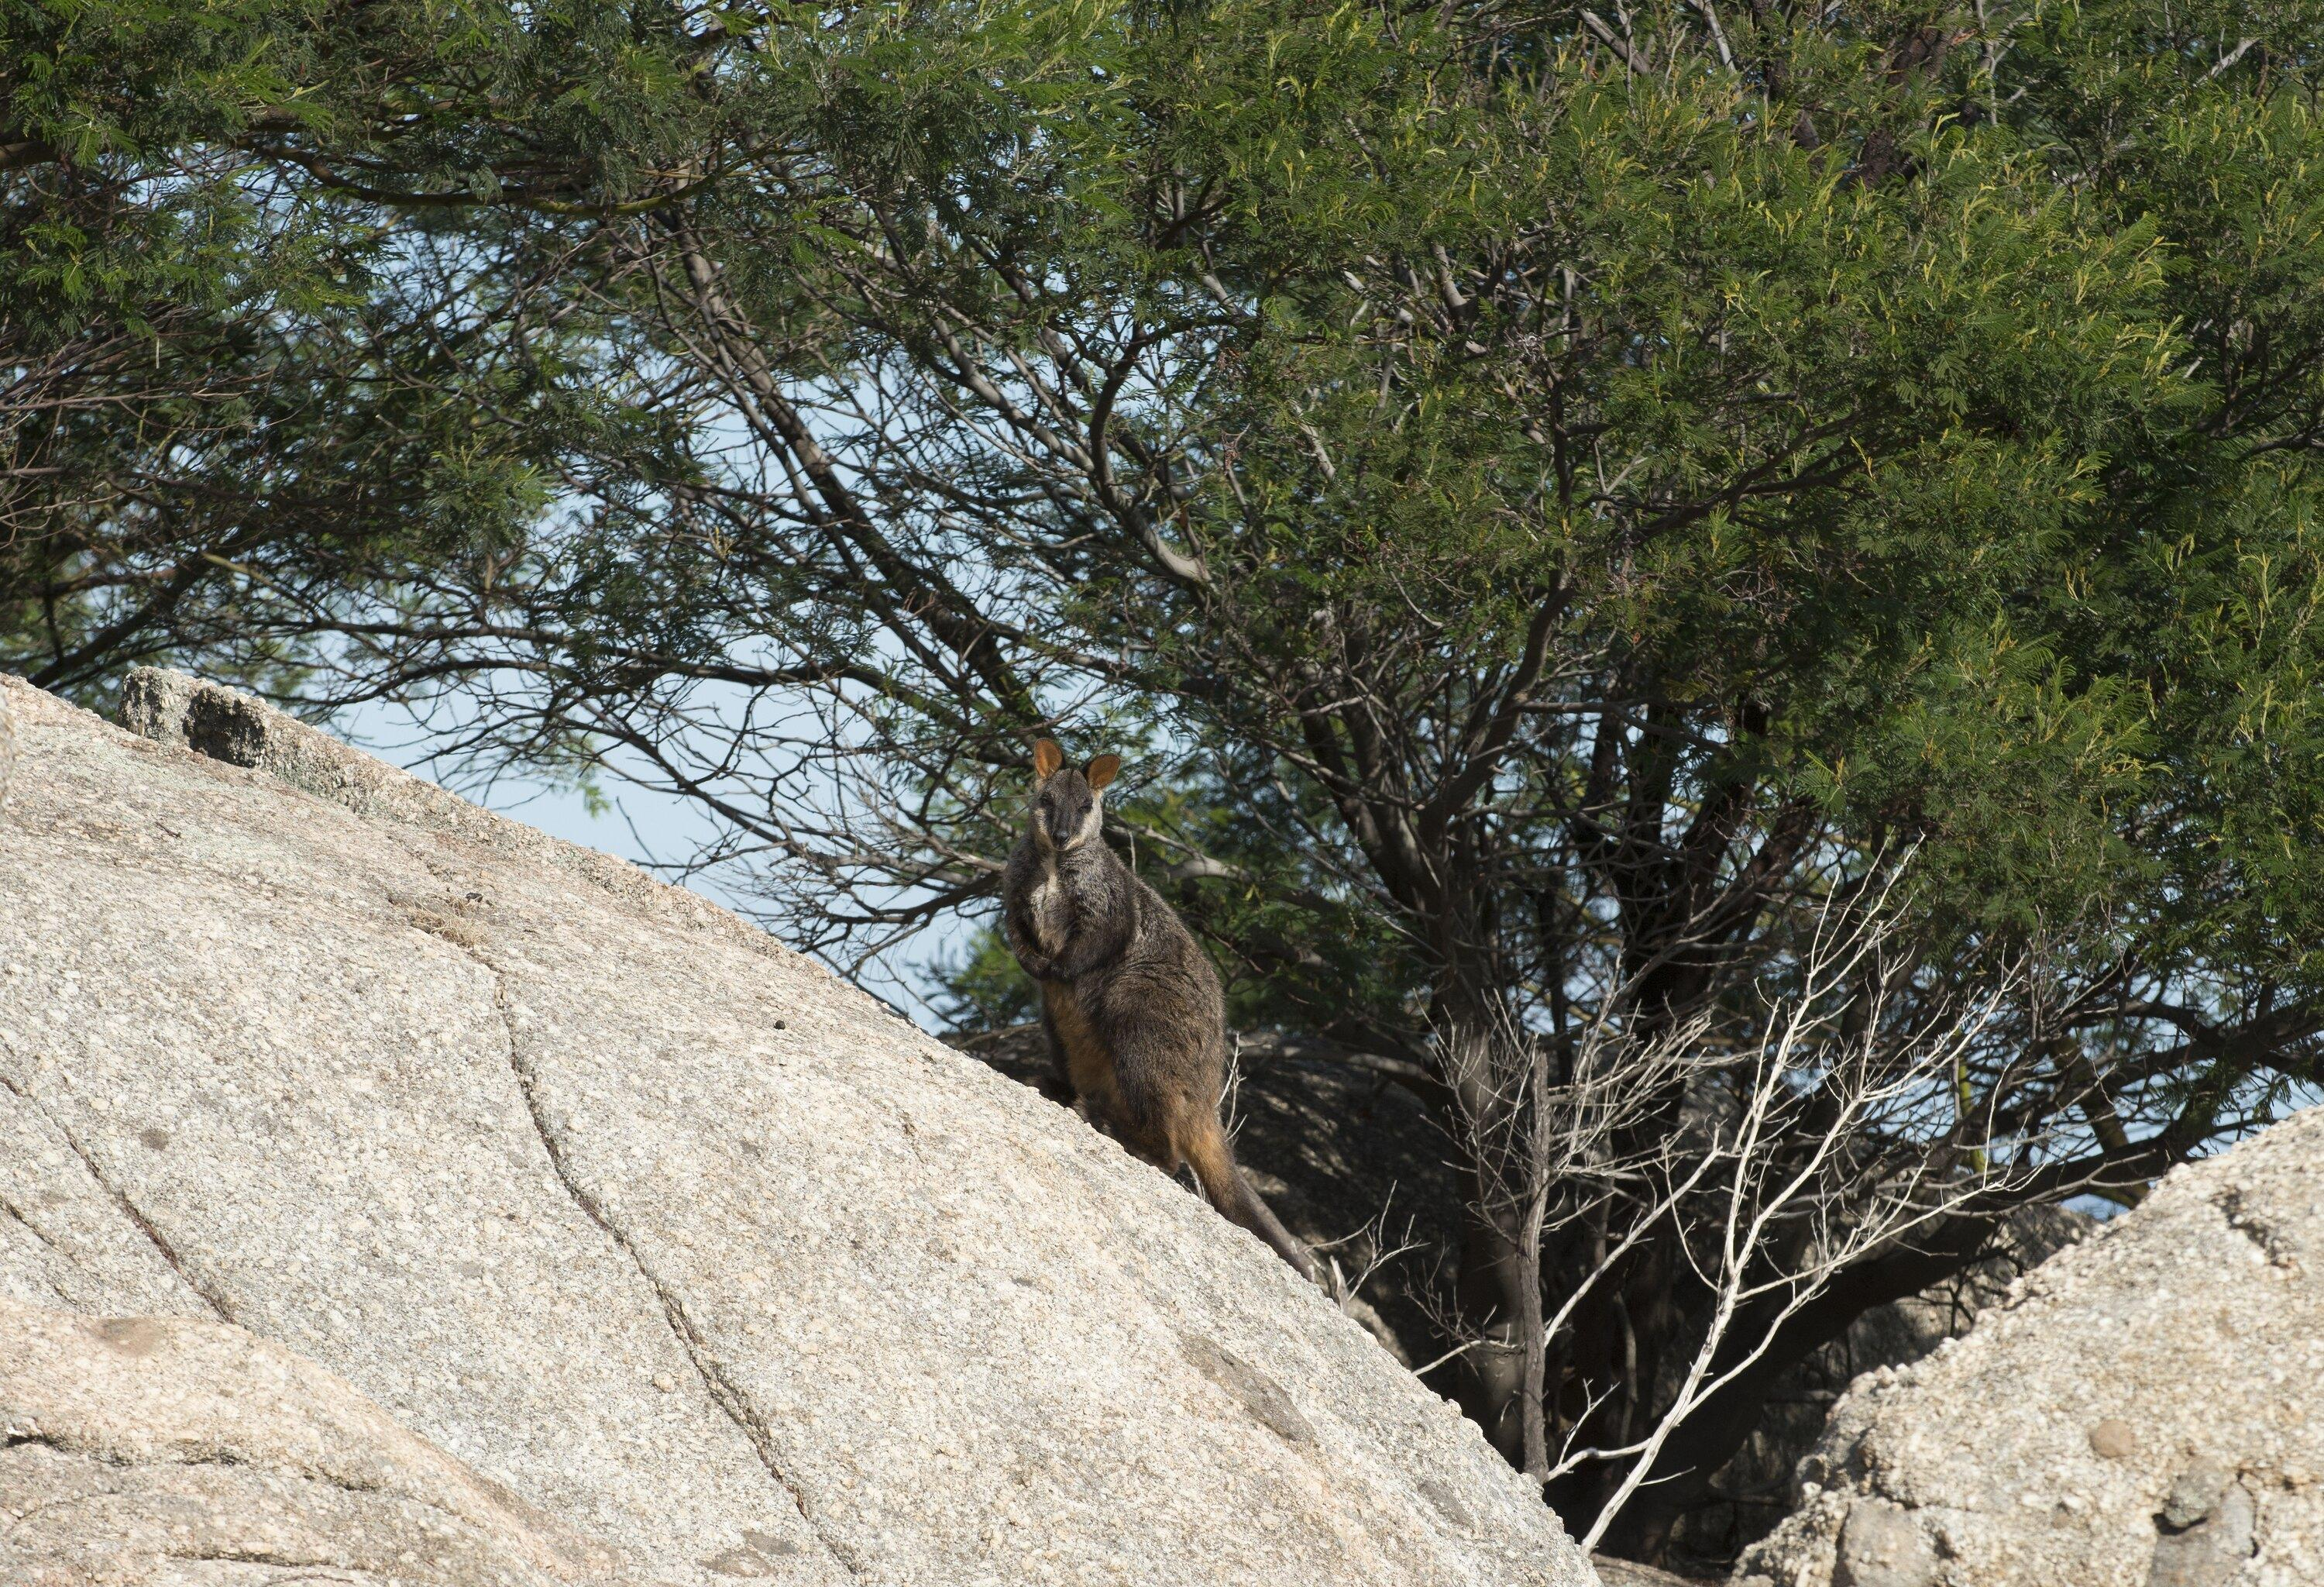Brush-tailed rock-wallaby: (1012, 728, 1402, 1371)
